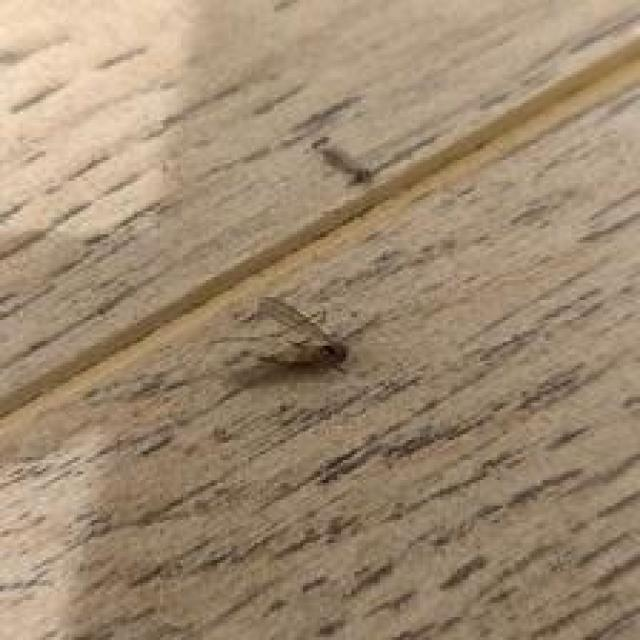Culex: (210, 293, 350, 376)
